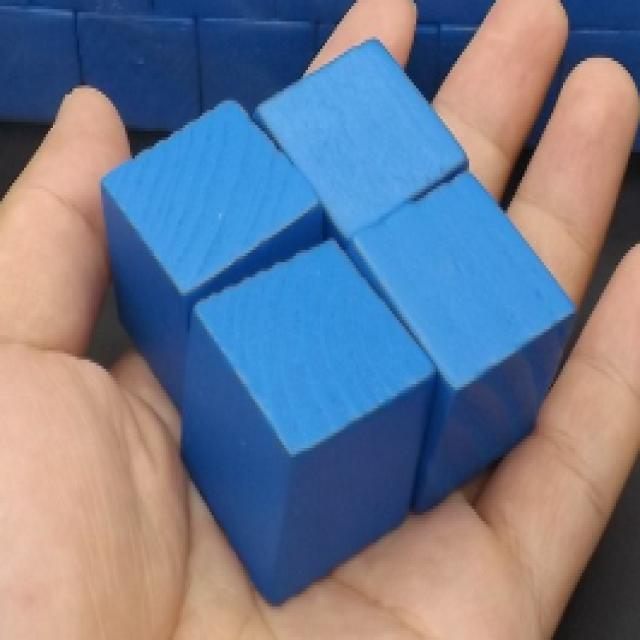bluecube: (180, 236, 439, 608), (344, 173, 577, 513), (101, 96, 323, 418), (250, 38, 472, 245), (76, 13, 200, 133), (198, 20, 315, 111), (1, 6, 83, 127)
